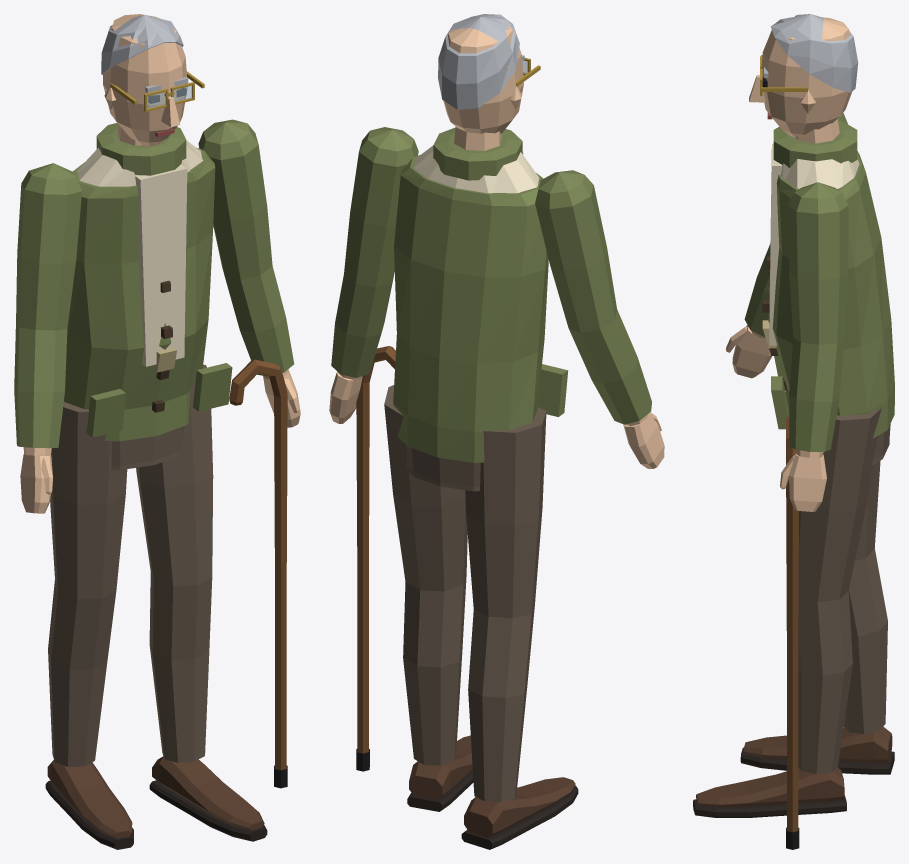
The model's file is HUMAN_10.obj.
The picture shows the model from 3 angles, left to right: view 1: azimuth 30°, elevation 25°; view 2: azimuth 150°, elevation 25°; view 3: azimuth 270°, elevation 25°; orthographic projection. The views are drawn at different scales.
Visible parts, largest first — view 1: jacket, legwear_R, legwear_L, sleeve_R, sleeve_L, shirt, accessory, head, shoe_L, shoe_R, hair, pelvis_bottom (+5 smaller); view 2: jacket, legwear_R, legwear_L, sleeve_R, sleeve_L, accessory, hair, shoe_R, head, shoe_L, torso, pelvis_bottom (+3 smaller); view 3: legwear_L, jacket, sleeve_L, legwear_R, shoe_L, head, accessory, hair, shoe_R, hand_L, torso, hand_R (+4 smaller).
Part boxes in pixels (<box>): jacket: <box>64,123,232,441</box>; legwear_R: <box>48,402,127,766</box>; legwear_L: <box>136,364,213,762</box>; sleeve_R: <box>14,163,81,448</box>; sleeve_L: <box>198,119,294,376</box>; shirt: <box>135,164,187,366</box>; accessory: <box>229,359,287,788</box>; head: <box>103,14,187,146</box>; shoe_L: <box>149,756,267,841</box>; shoe_R: <box>45,760,133,849</box>; hair: <box>101,14,183,74</box>; pelvis_bottom: <box>111,426,183,469</box>; jacket: <box>393,127,568,462</box>; legwear_R: <box>465,407,546,802</box>; legwear_L: <box>384,385,467,765</box>; sleeve_R: <box>535,170,651,424</box>; sleeve_L: <box>331,127,418,377</box>; accessory: <box>356,346,395,771</box>; hair: <box>438,14,519,109</box>; shoe_R: <box>461,777,578,849</box>; head: <box>443,24,523,133</box>; shoe_L: <box>407,735,473,811</box>; torso: <box>414,145,539,193</box>; pelvis_bottom: <box>405,446,480,491</box>; legwear_L: <box>798,408,881,774</box>; jacket: <box>762,120,894,438</box>; sleeve_L: <box>787,182,848,451</box>; legwear_R: <box>843,460,887,733</box>; shoe_L: <box>693,767,846,817</box>; head: <box>761,17,851,137</box>; accessory: <box>786,416,799,849</box>; hair: <box>770,14,858,92</box>; shoe_R: <box>740,726,894,774</box>; hand_L: <box>780,453,826,511</box>; torso: <box>781,159,859,188</box>; hand_R: <box>726,325,772,378</box>.
Size of the model in its own units: 0.6503 by 1.67 by 0.3948.
